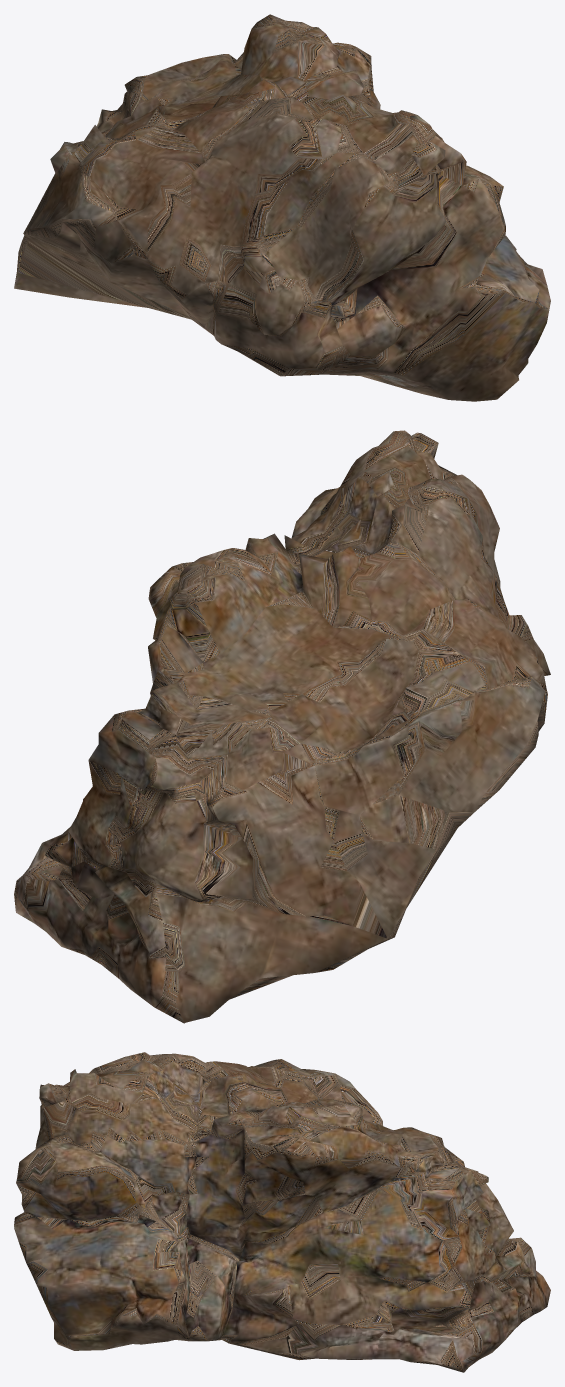
The picture shows the model from 3 angles, top to bottom: view 1: azimuth 30°, elevation 25°; view 2: azimuth 150°, elevation 25°; view 3: azimuth 270°, elevation 25°; orthographic projection. The views are drawn at different scales.
Parts seen in each view (by area): view 1: boulder_01_lod1; view 2: boulder_01_lod1; view 3: boulder_01_lod1.
Boxes of the visible parts, x1,y1,x2,y2 form: boulder_01_lod1: (14,14,550,401); boulder_01_lod1: (14,430,550,1023); boulder_01_lod1: (14,1052,550,1372).
Bounding box in the file's own units: 1.26 × 0.9962 × 1.81.
1 material, 1 textured.
